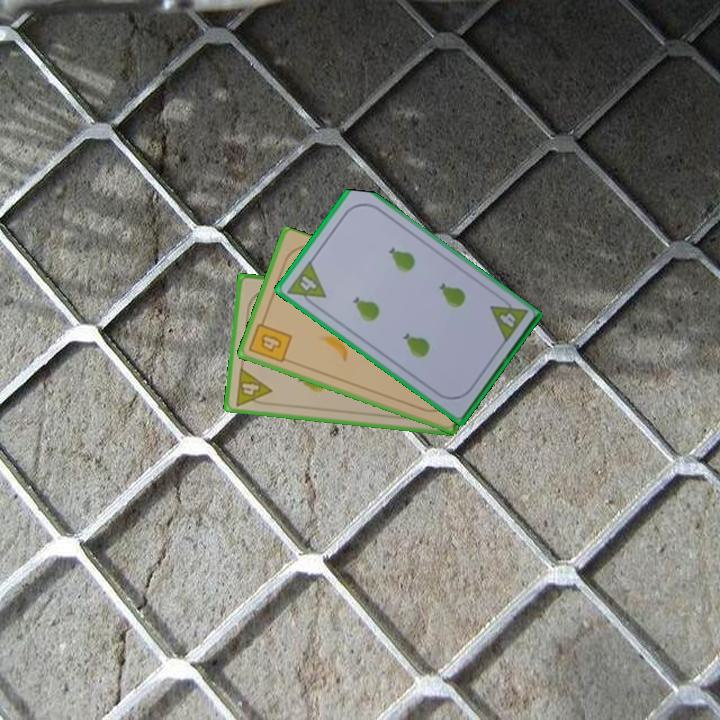4b: (245, 314, 295, 366)
4p: (283, 257, 329, 312), (486, 292, 530, 346), (231, 364, 274, 409)
